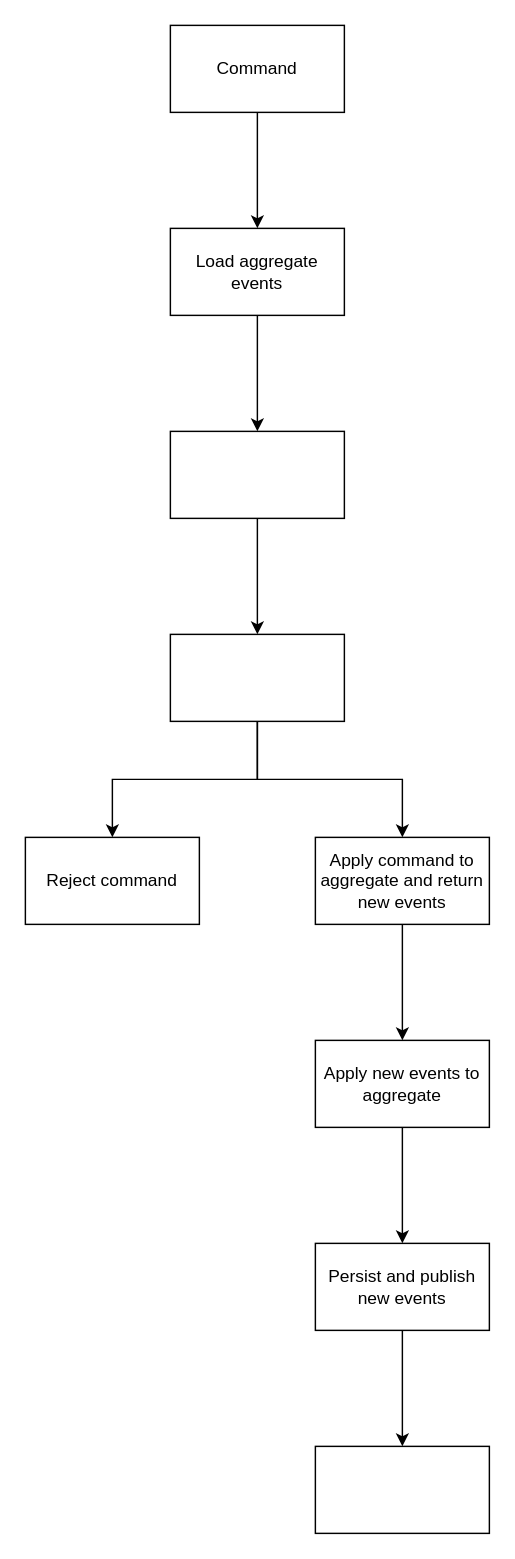
Image size: 515x1559. Some labels were removed from this diagram. Here are the shapes that lost their labels. From the top down, the centre of each, then its label:
point 256,474: Apply loaded events on fresh aggregate
point 256,677: Apply command to aggregate
point 401,1489: Return aggregate with command applied
